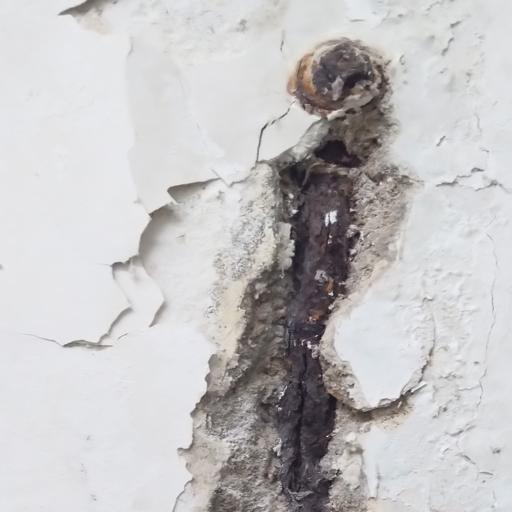spalling: (165, 100, 420, 512)
